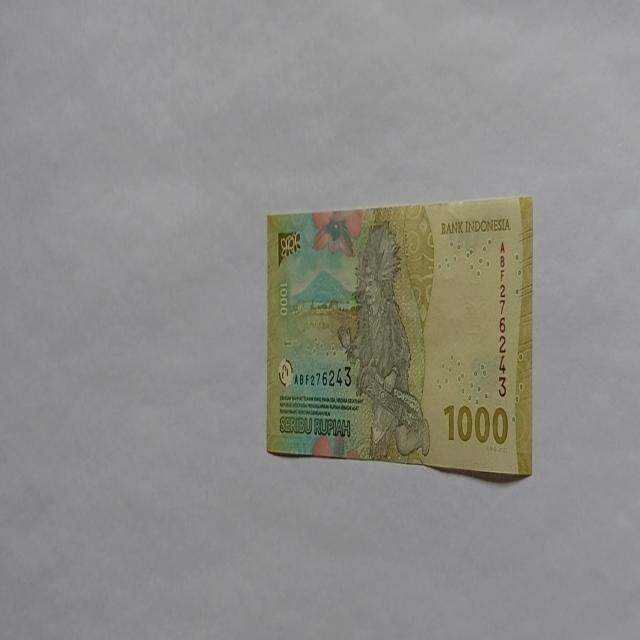seribu rupiah kertas: (266, 194, 534, 478)
